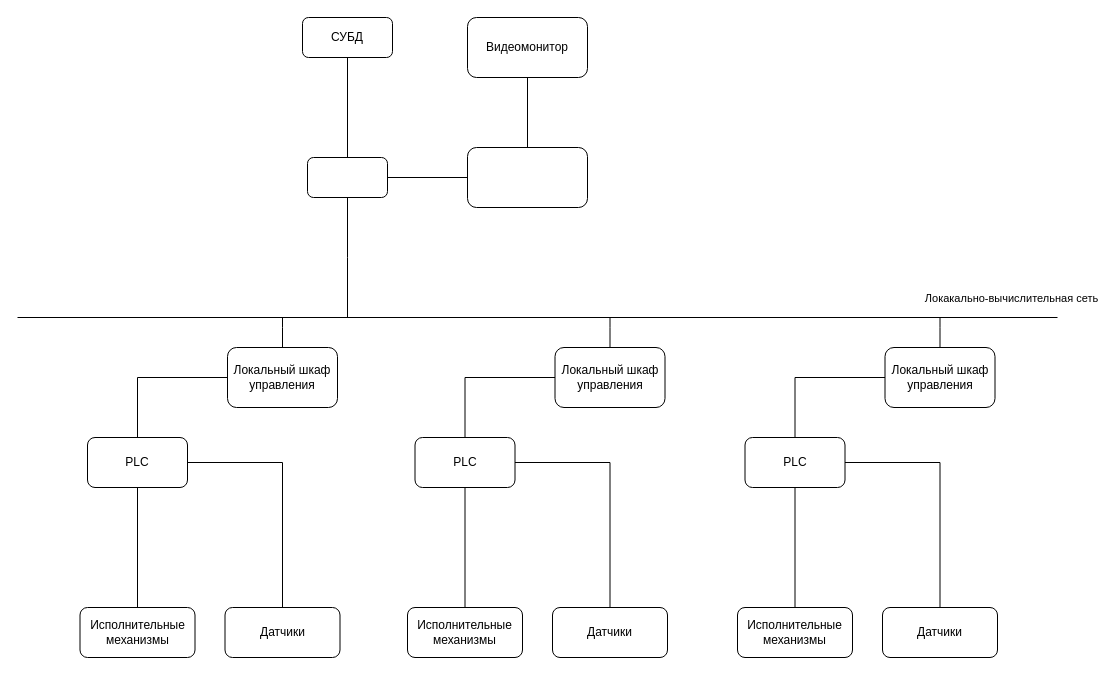
Image size: 1115x675. Some labels were removed from this diagram. Each missing label, with the centre of its shape:
АРМ оператора: the point at 527,177
Сервер: the point at 347,177
